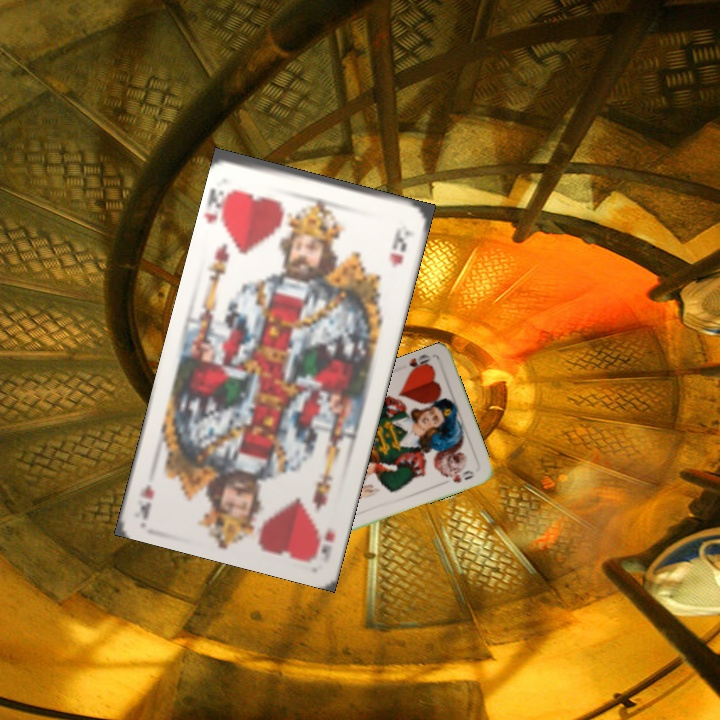HK: (206, 185, 239, 236), (317, 522, 337, 563)
HO: (404, 350, 435, 378)
